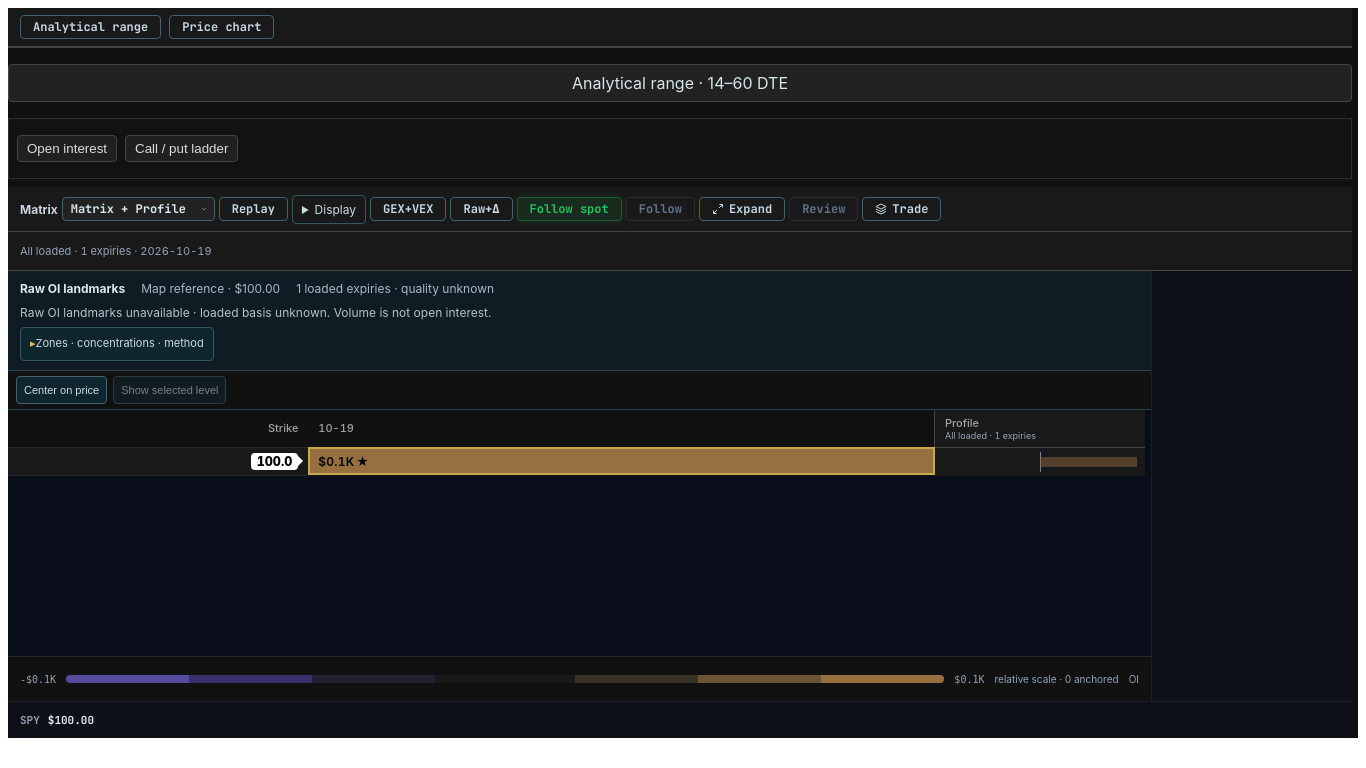
Scenario: a valid empty wide result replaces the previous narrow cells
The image size is (1366, 768).
Step 1. Click the button with test id "skylit-expand-btn" → point(742, 209), box [699, 197, 785, 221]
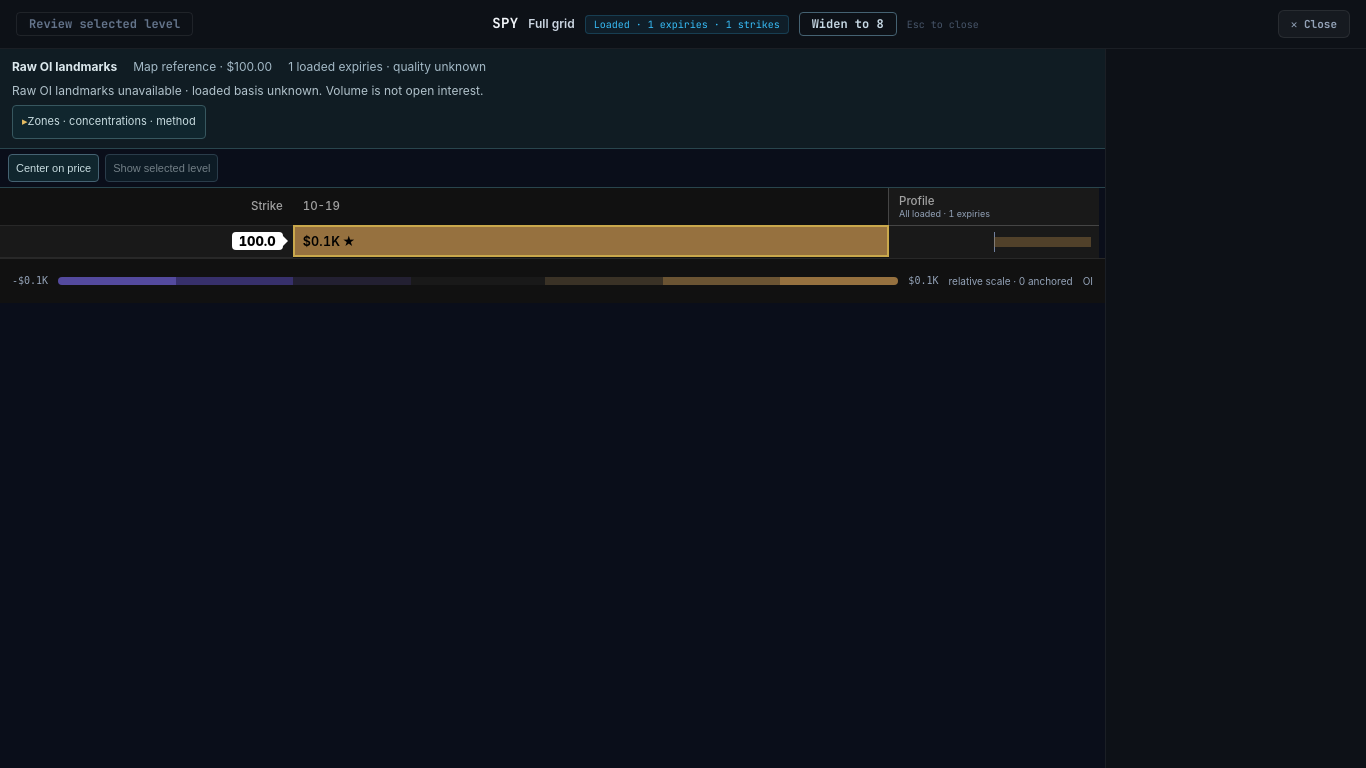
Step 2. Click the button with test id "skylit-expand-widen" → point(848, 24), box [799, 12, 897, 36]
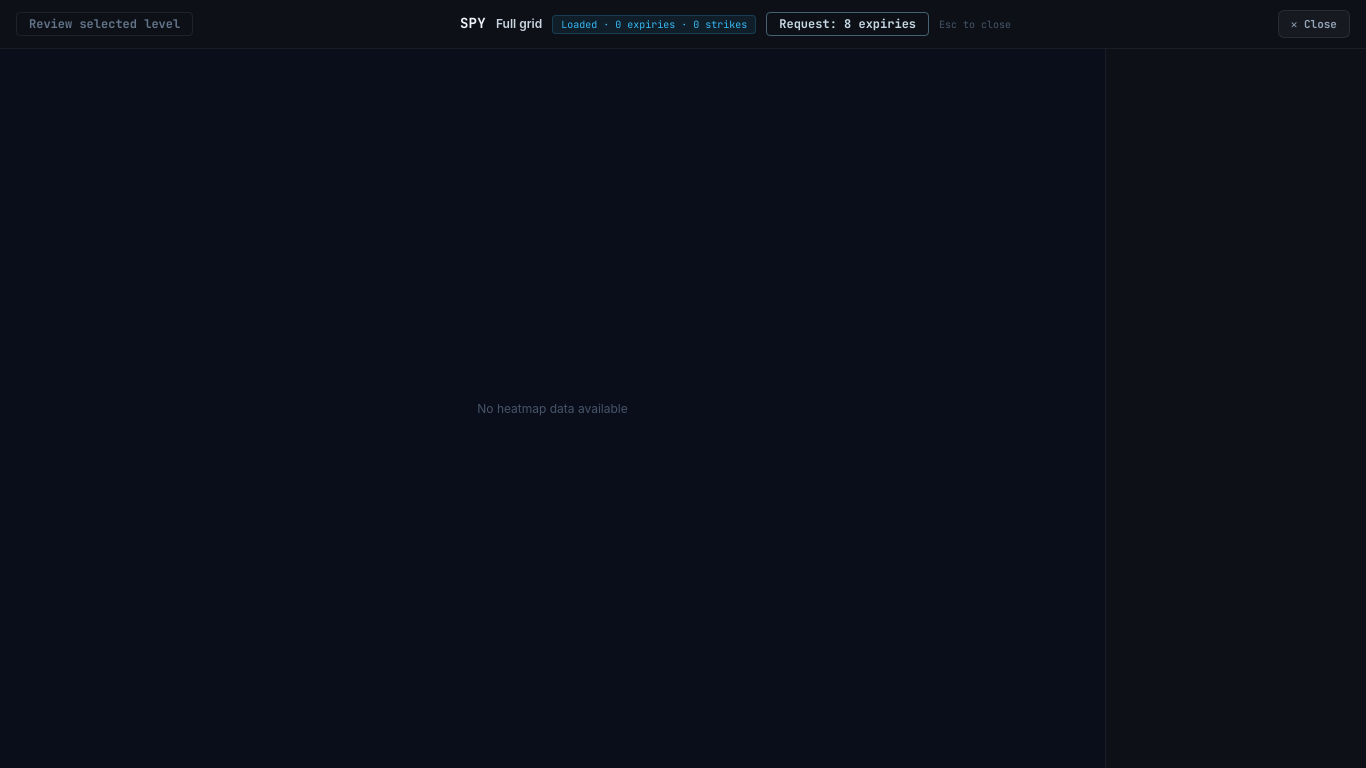
Expected: the dialog named "Expanded heatmap grid" shows "0 expiries · 0 strikes", [561, 18, 747, 31]
Expected: the text "No heatmap data available" is shown, [477, 401, 628, 416]
